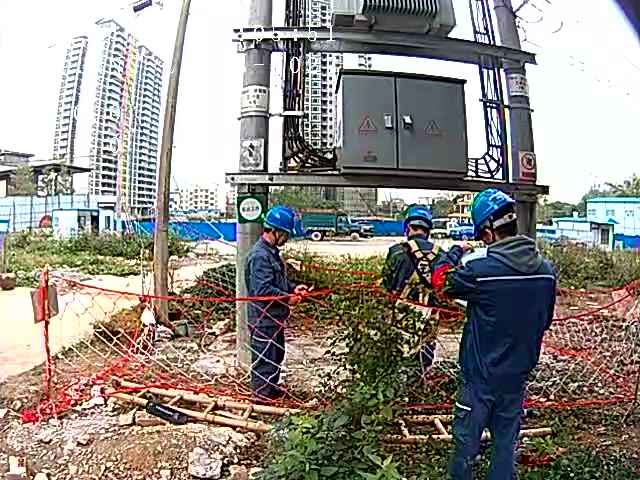halt: (473, 191, 524, 244), (265, 209, 300, 247), (406, 212, 437, 241)
inear: (270, 227, 288, 246)
